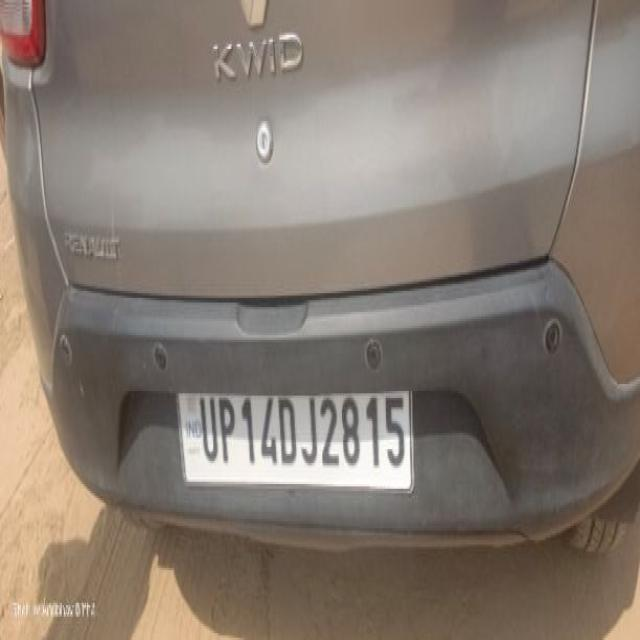license_plate: (0, 0, 639, 556), (175, 386, 414, 491)
